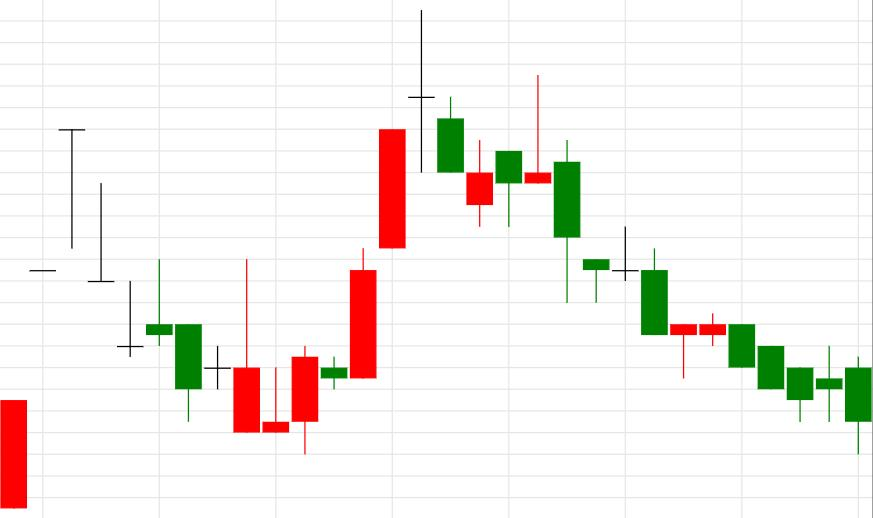evening_star_fall: (263, 10, 464, 453)
